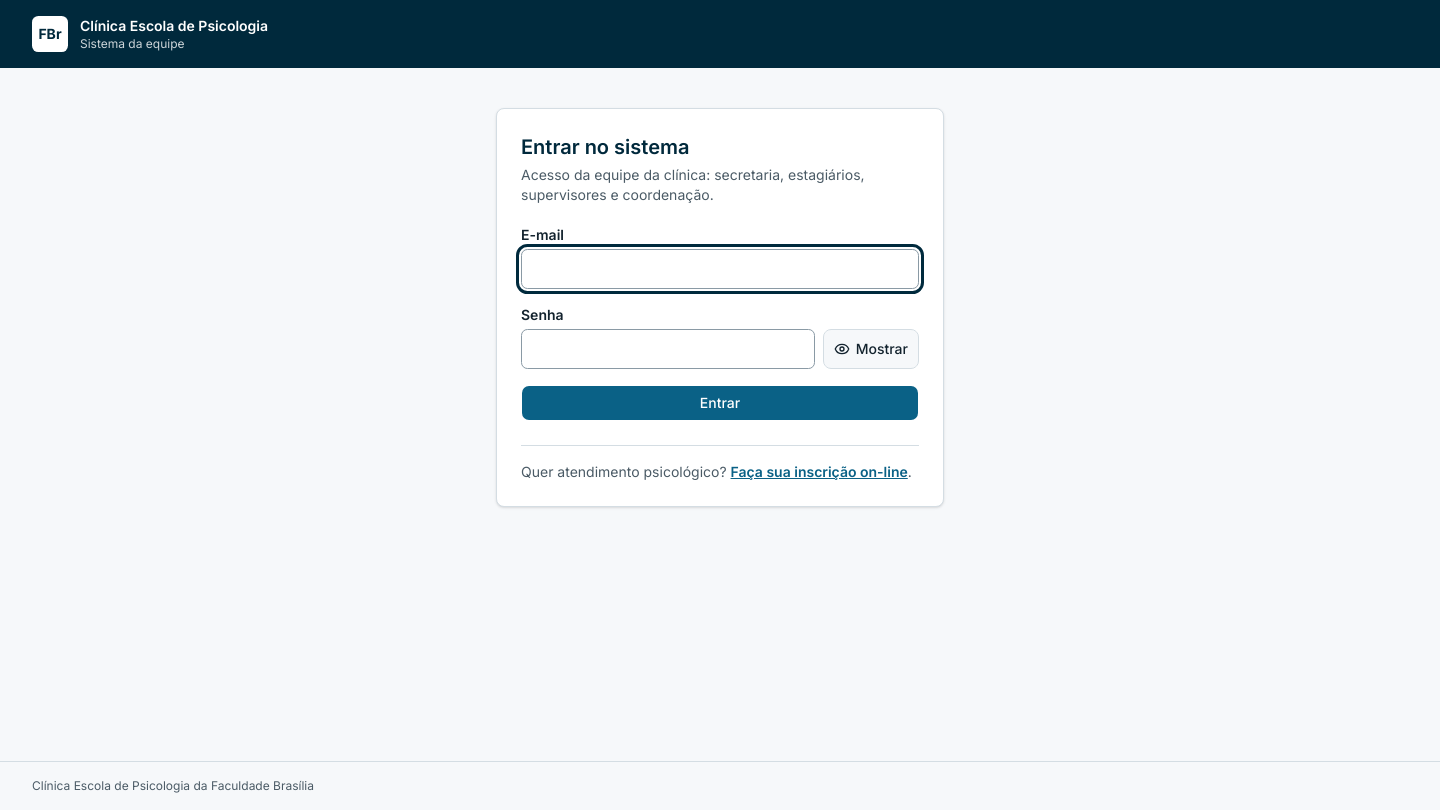
Test case: Entrar no sistema (RF50) › mostra a mesma mensagem para e-mail ou senha incorretos
Type "ana@fbr.edu.br" into the field labelled "E-mail" at (720, 269), box [521, 249, 919, 289]
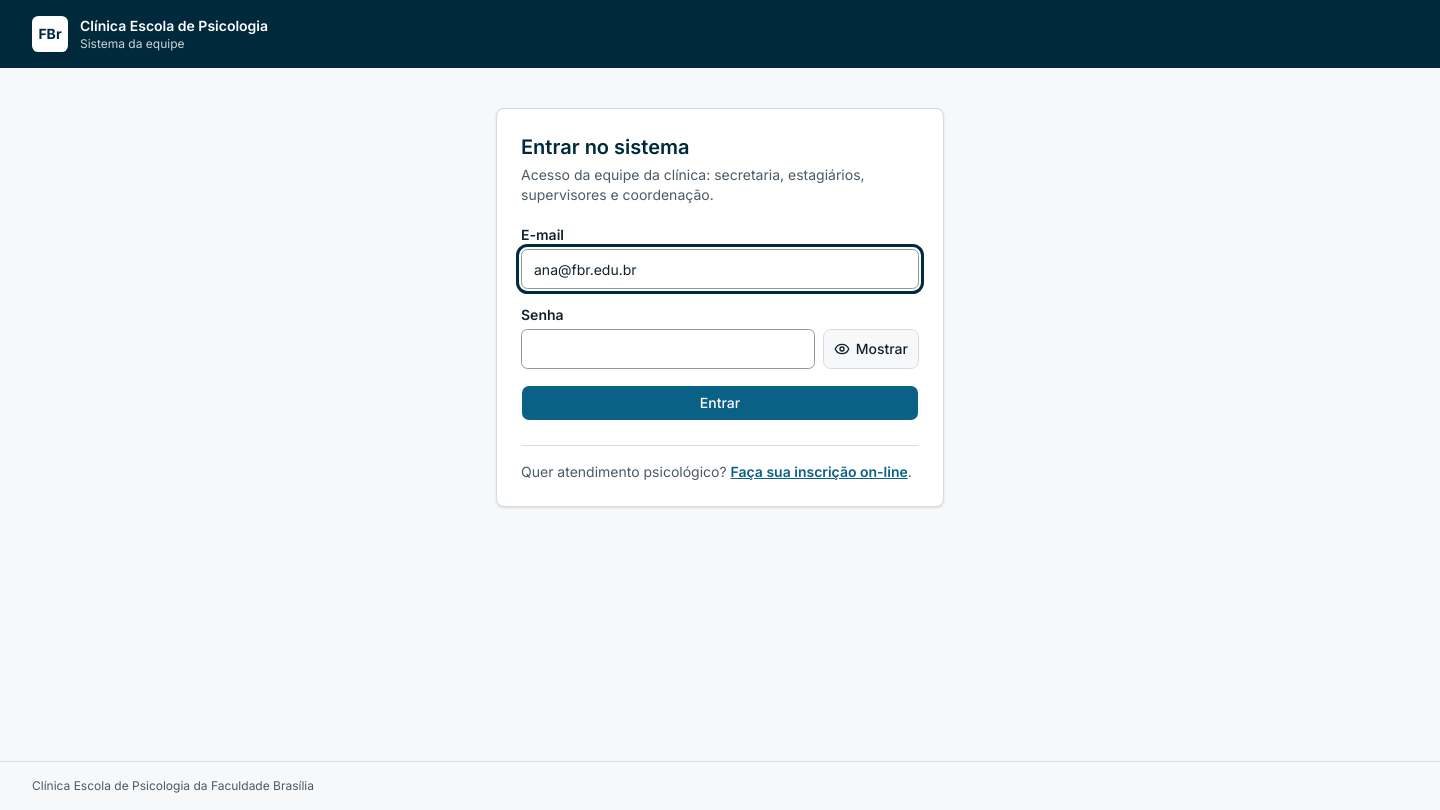
Type "senha1234" into the password field labelled "Senha" at (668, 349), box [521, 329, 815, 369]
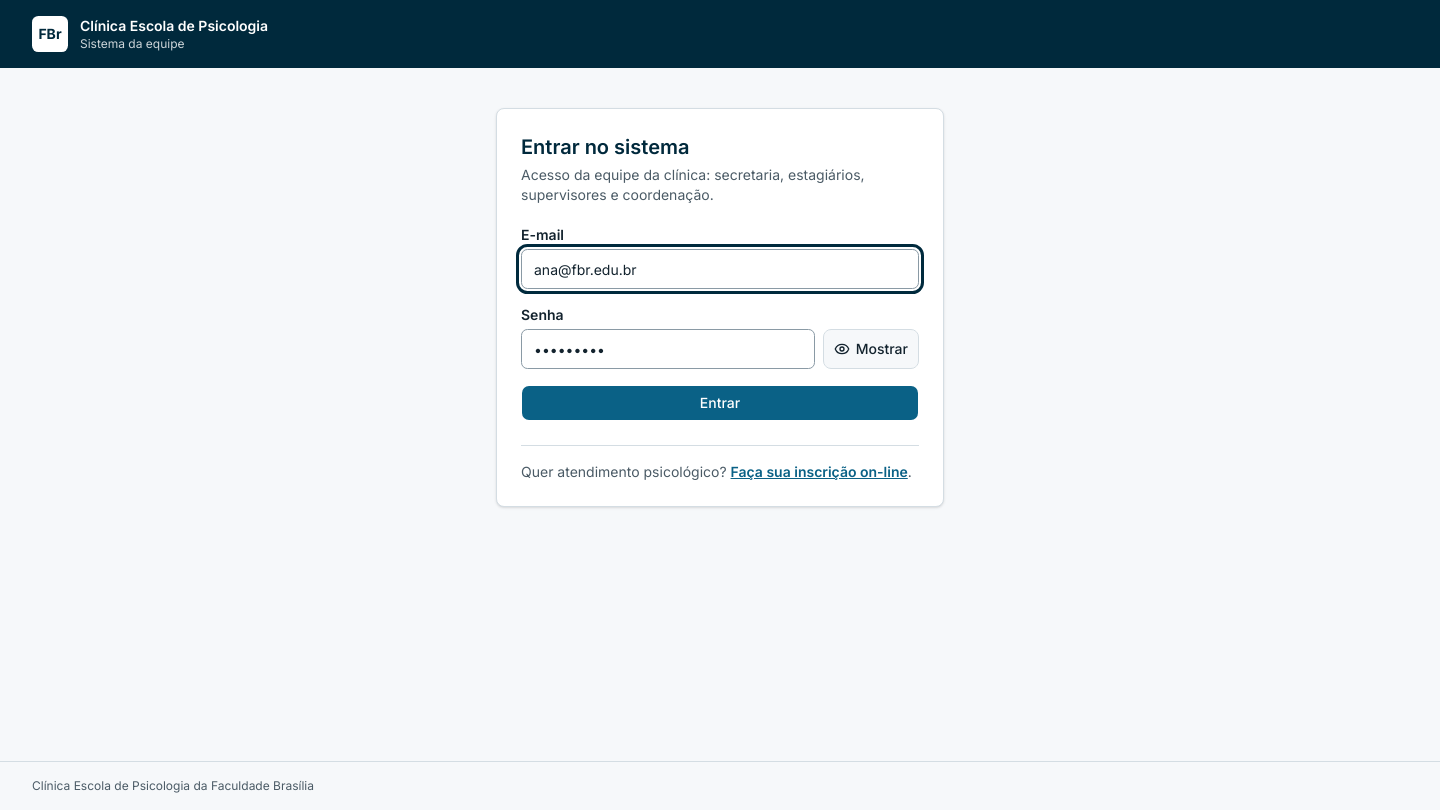
Click the button "Entrar" at (720, 403), box [521, 385, 919, 421]
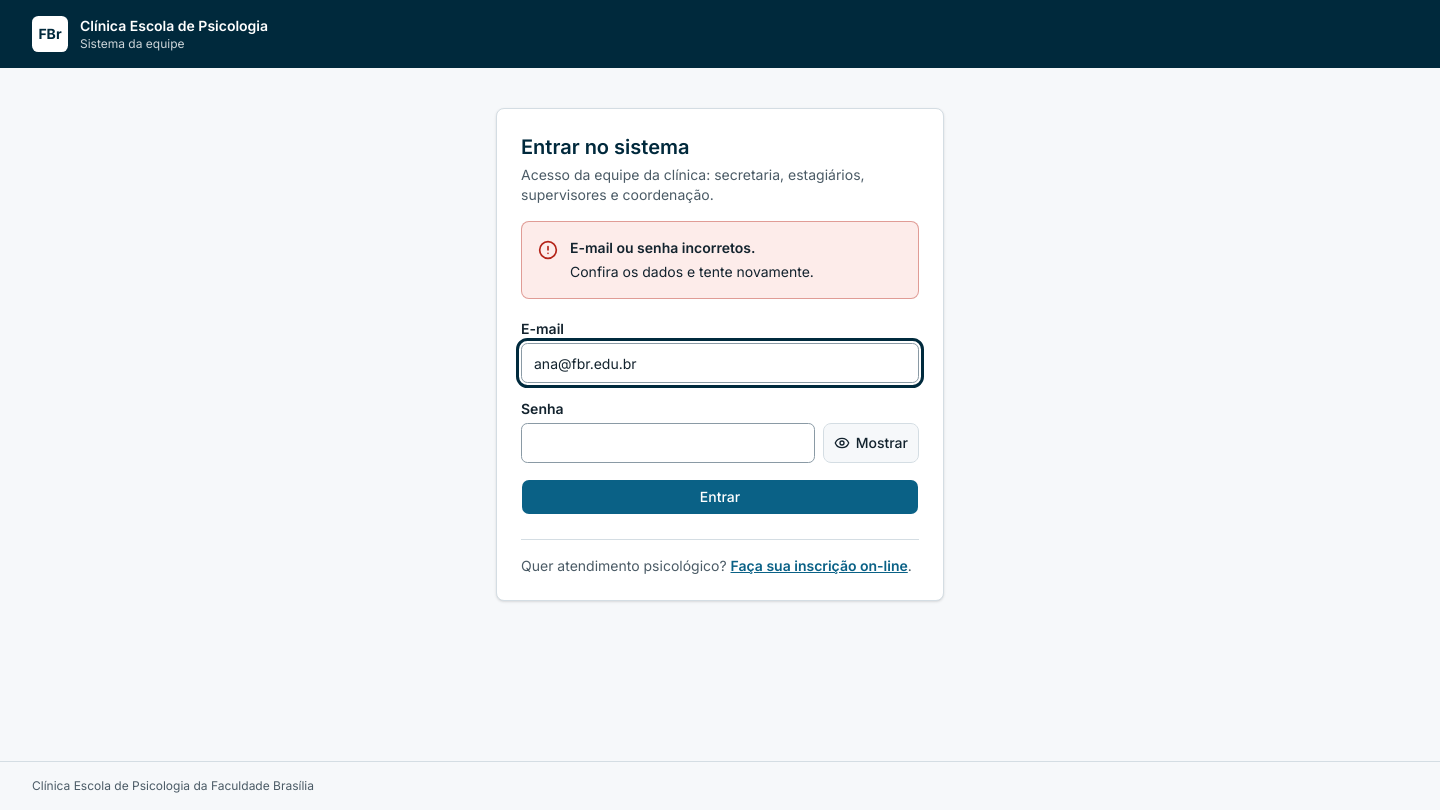
Now the text "E-mail ou senha incorretos." is shown, box [570, 239, 755, 256]
